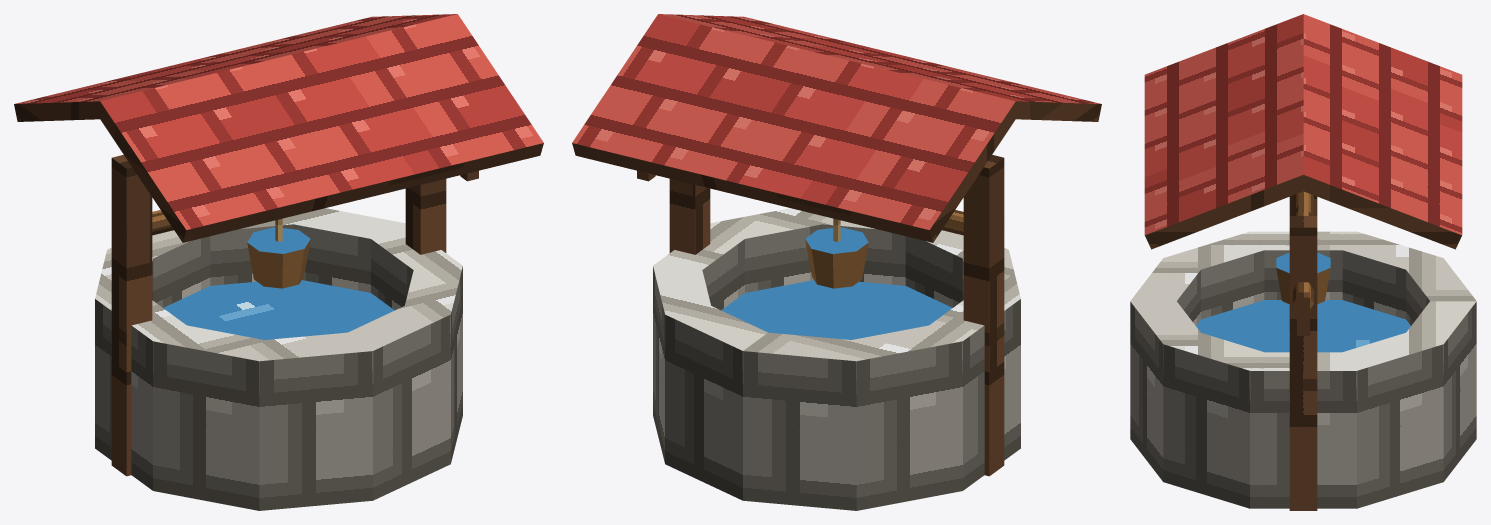
The model's file is well.glb.
3 views of the same model, side by side, from view 1: azimuth 30°, elevation 25°; view 2: azimuth 150°, elevation 25°; view 3: azimuth 270°, elevation 25° (orthographic). The views are drawn at different scales.
Visible parts, largest first — view 1: well; view 2: well; view 3: well.
Boxes of the visible parts, x1,y1,x2,y2 form: well: (14,14,543,510); well: (572,14,1101,510); well: (1130,14,1476,510).
Bounding box in the file's own units: 1.89 × 1.8 × 1.64.
8 materials, 8 textured.
